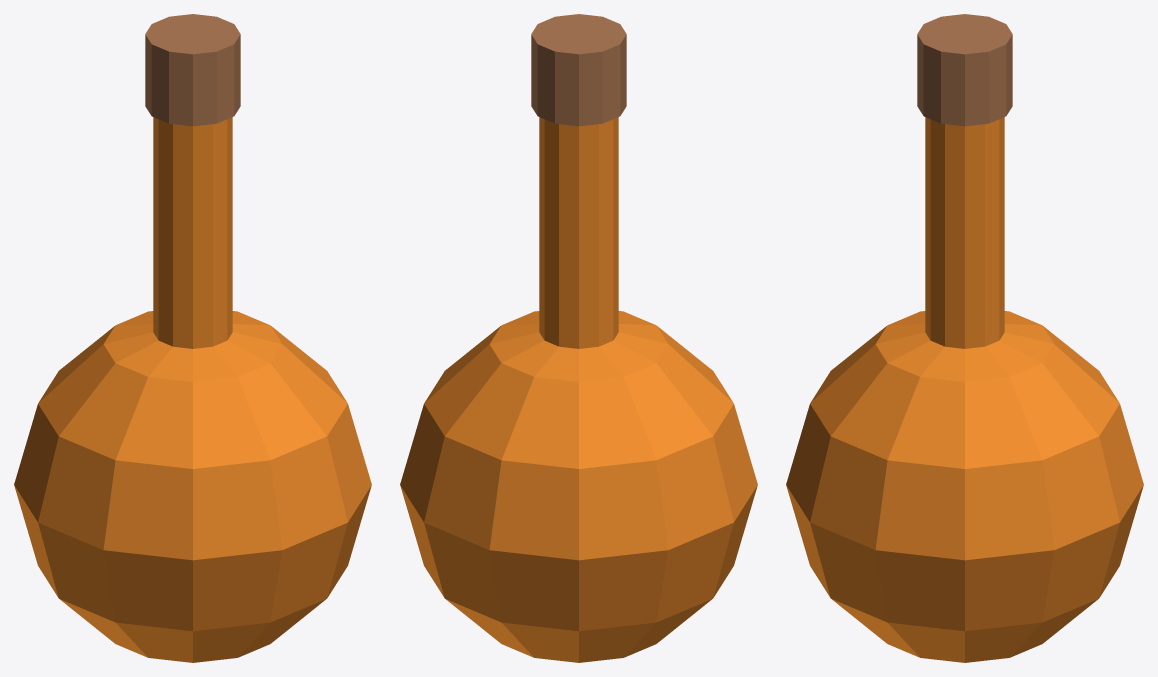
Rendered from bottle_skin_4.glb.
The picture shows the model from 3 angles, left to right: view 1: azimuth 30°, elevation 25°; view 2: azimuth 150°, elevation 25°; view 3: azimuth 270°, elevation 25°; orthographic projection.
Visible parts, largest first — view 1: bottle_skin_4; view 2: bottle_skin_4; view 3: bottle_skin_4.
Part boxes in pixels (x1,y1,x2,y2): bottle_skin_4: (14, 14, 371, 662); bottle_skin_4: (400, 14, 757, 662); bottle_skin_4: (786, 14, 1143, 662).
Bounding box in the file's own units: 1.06 × 2 × 1.06.
